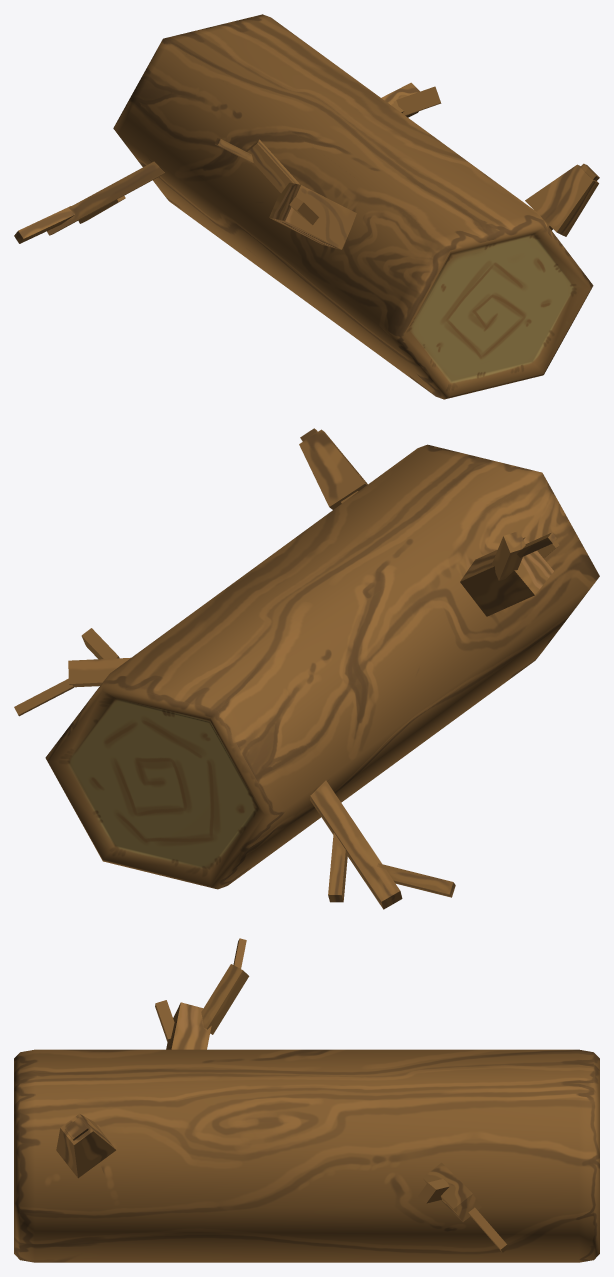
The model's file is Odun 05.fbx.
3 views of the same model, one above another, from view 1: azimuth 30°, elevation 25°; view 2: azimuth 150°, elevation 25°; view 3: azimuth 270°, elevation 25° (orthographic). The views are drawn at different scales.
Visible parts, largest first — view 1: Cylinder; view 2: Cylinder; view 3: Cylinder.
Part boxes in pixels (bbox=[...]): Cylinder: bbox=[14, 14, 599, 399]; Cylinder: bbox=[14, 428, 599, 909]; Cylinder: bbox=[14, 938, 599, 1262].
Bounding box in the file's own units: 163 × 83.45 × 205.
Materials: 1 (1 with a texture image).
